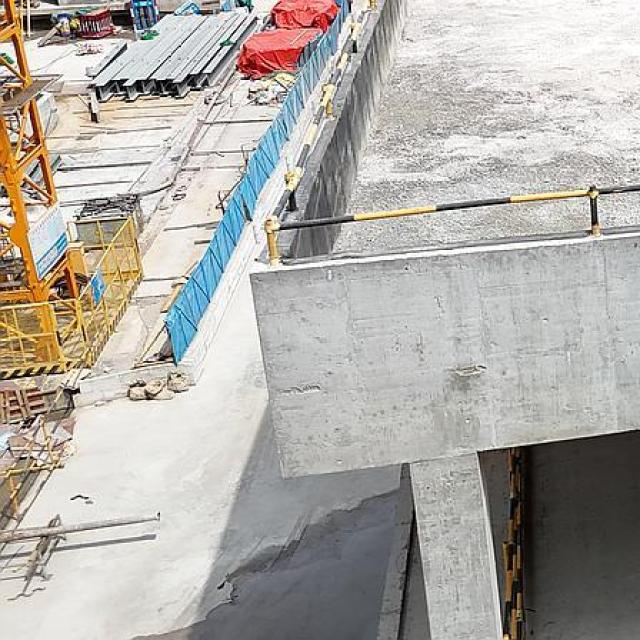Guardrail: (263, 0, 640, 266), (503, 447, 528, 640)
